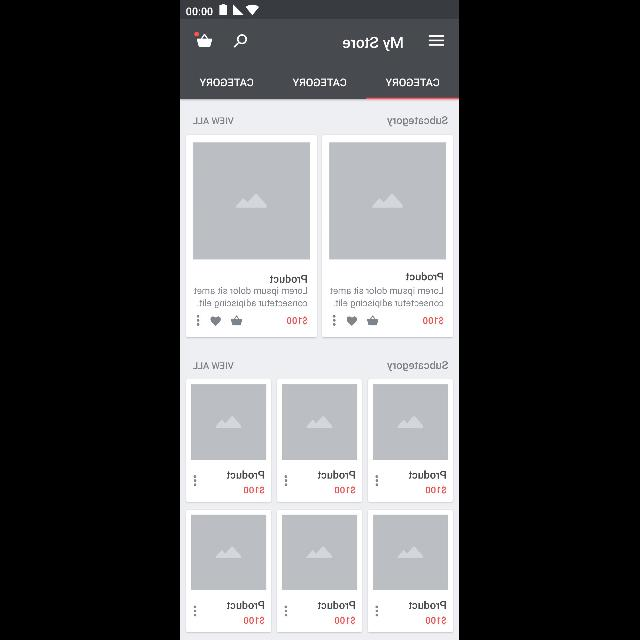icon: (194, 30, 212, 48), (428, 34, 446, 48), (234, 33, 248, 49), (367, 316, 379, 326), (347, 316, 359, 326), (231, 315, 243, 325), (210, 316, 222, 326), (284, 474, 288, 488), (193, 474, 197, 488), (193, 604, 197, 618), (333, 314, 337, 326), (284, 605, 288, 617), (197, 314, 200, 326), (376, 605, 379, 617), (376, 474, 378, 486)
image: (329, 143, 446, 260), (194, 143, 310, 260), (282, 384, 358, 460), (191, 384, 267, 460), (374, 514, 448, 590), (282, 516, 358, 590), (192, 514, 266, 590), (374, 384, 448, 460)
multitab: (180, 60, 460, 100)
panel: (186, 134, 318, 338), (322, 134, 453, 338), (368, 510, 454, 632), (186, 510, 272, 632), (186, 380, 272, 502), (368, 380, 454, 502), (278, 510, 362, 632), (278, 380, 362, 502)
text: (330, 286, 446, 308), (194, 286, 308, 308), (343, 36, 405, 52), (388, 115, 448, 127), (388, 361, 449, 372), (200, 77, 254, 87), (387, 77, 441, 87), (293, 77, 347, 87), (406, 271, 446, 281), (227, 470, 266, 480), (227, 600, 266, 610), (318, 600, 357, 610), (270, 274, 308, 284), (318, 470, 356, 480), (409, 470, 447, 480), (410, 600, 448, 610), (193, 362, 234, 371), (193, 117, 234, 125), (334, 485, 358, 495), (423, 315, 445, 325), (287, 316, 309, 326), (426, 486, 448, 494), (244, 616, 266, 624), (243, 486, 264, 494), (336, 616, 356, 624), (427, 616, 447, 624)
toolbar: (180, 20, 460, 60)
uppertaskbar: (180, 1, 460, 20)
